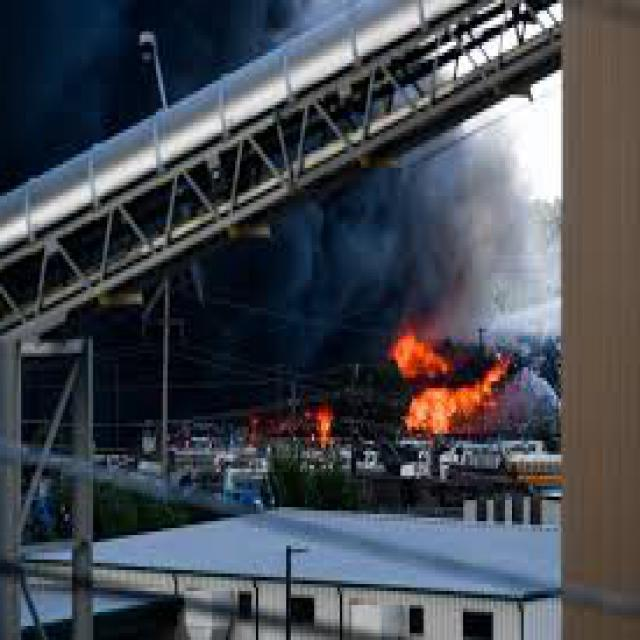Fire: (290, 325, 515, 460)
Smoke: (256, 90, 554, 352)
